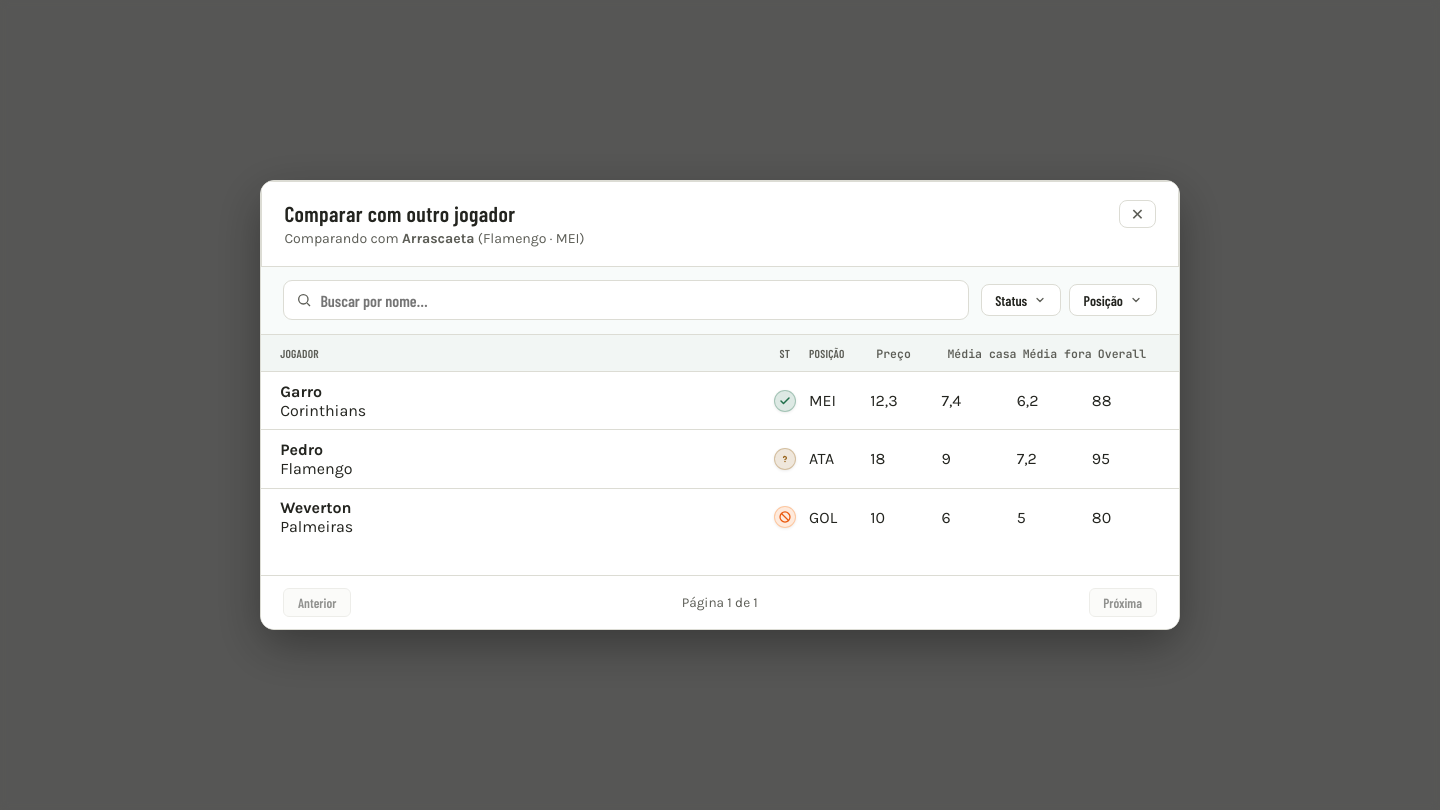
Test: ModalCompararJogador › filtra atletas por posição selecionada e desmarca ao clicar novamente
expect the text "Garro" is shown: met, box [280,382,322,401]
Click the button "Posição": [1113, 300] box [1069,284,1157,316]
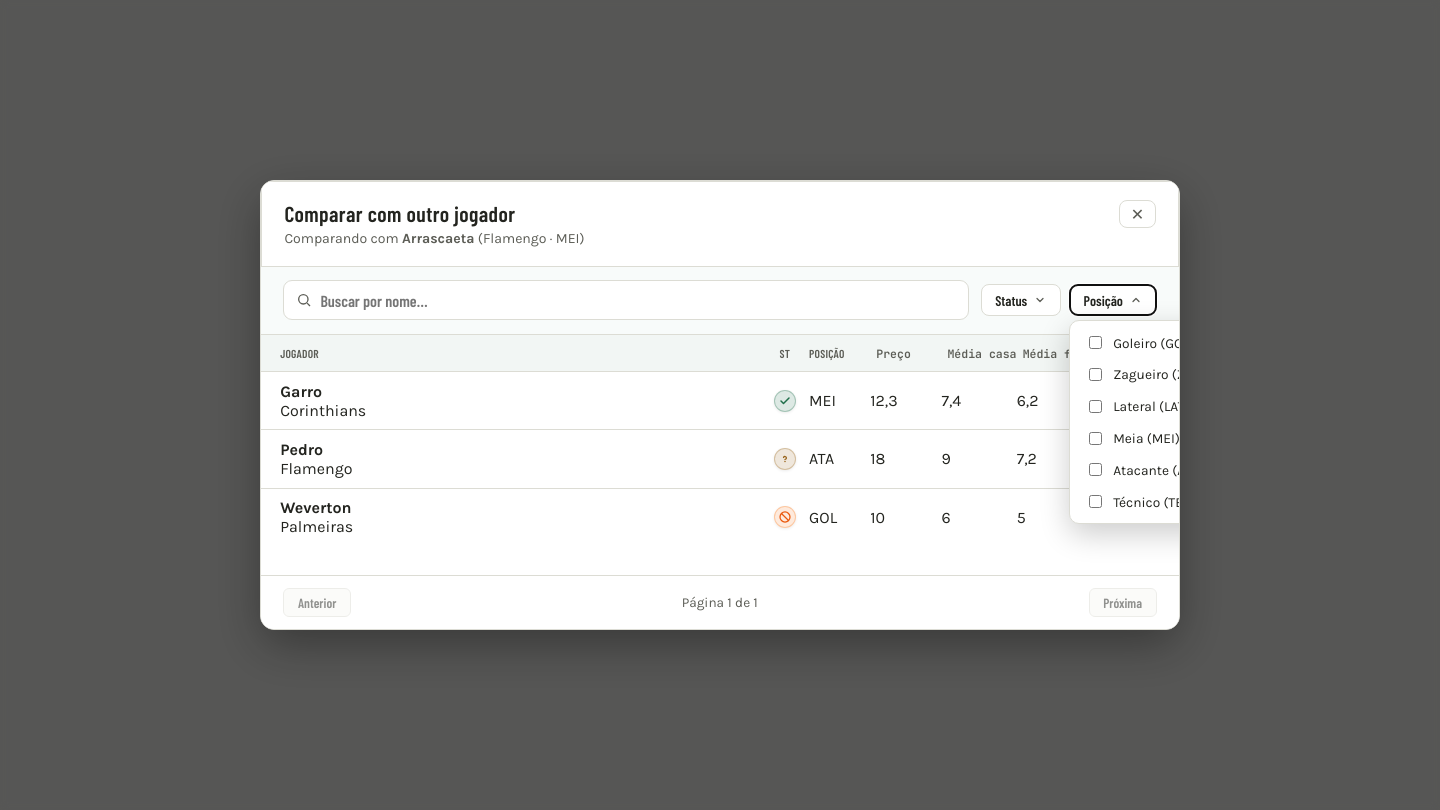
Click the option "Goleiro (GOL)": [1142, 343] box [1089,335,1194,351]
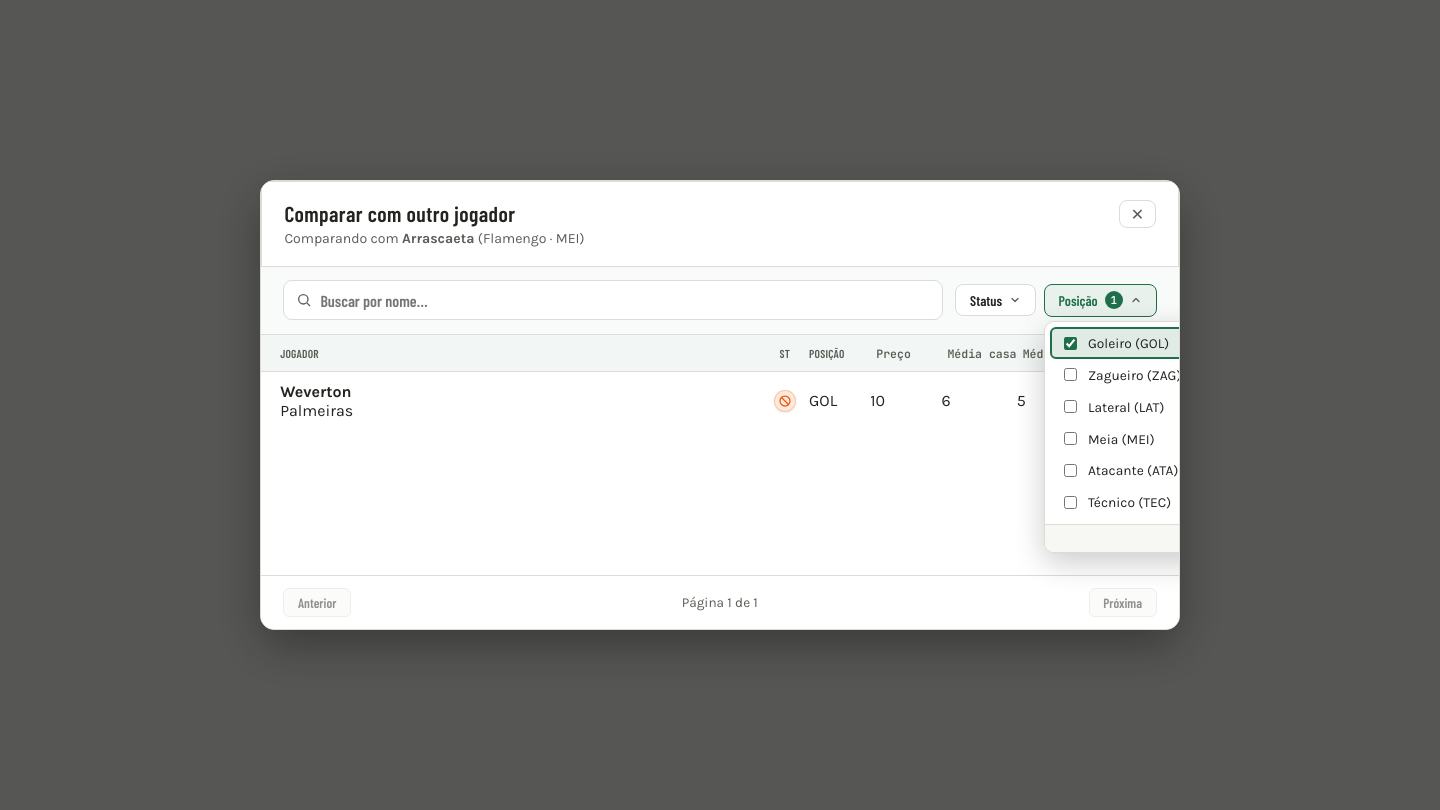
expect the text "Weverton" is shown: met, box [280,382,352,401]
expect the button "Garro" is gone: met
expect the button "Pedro" is gone: met
Desmarca a posição
Click the option "Goleiro (GOL)": [1139, 343] box [1050,327,1227,359]
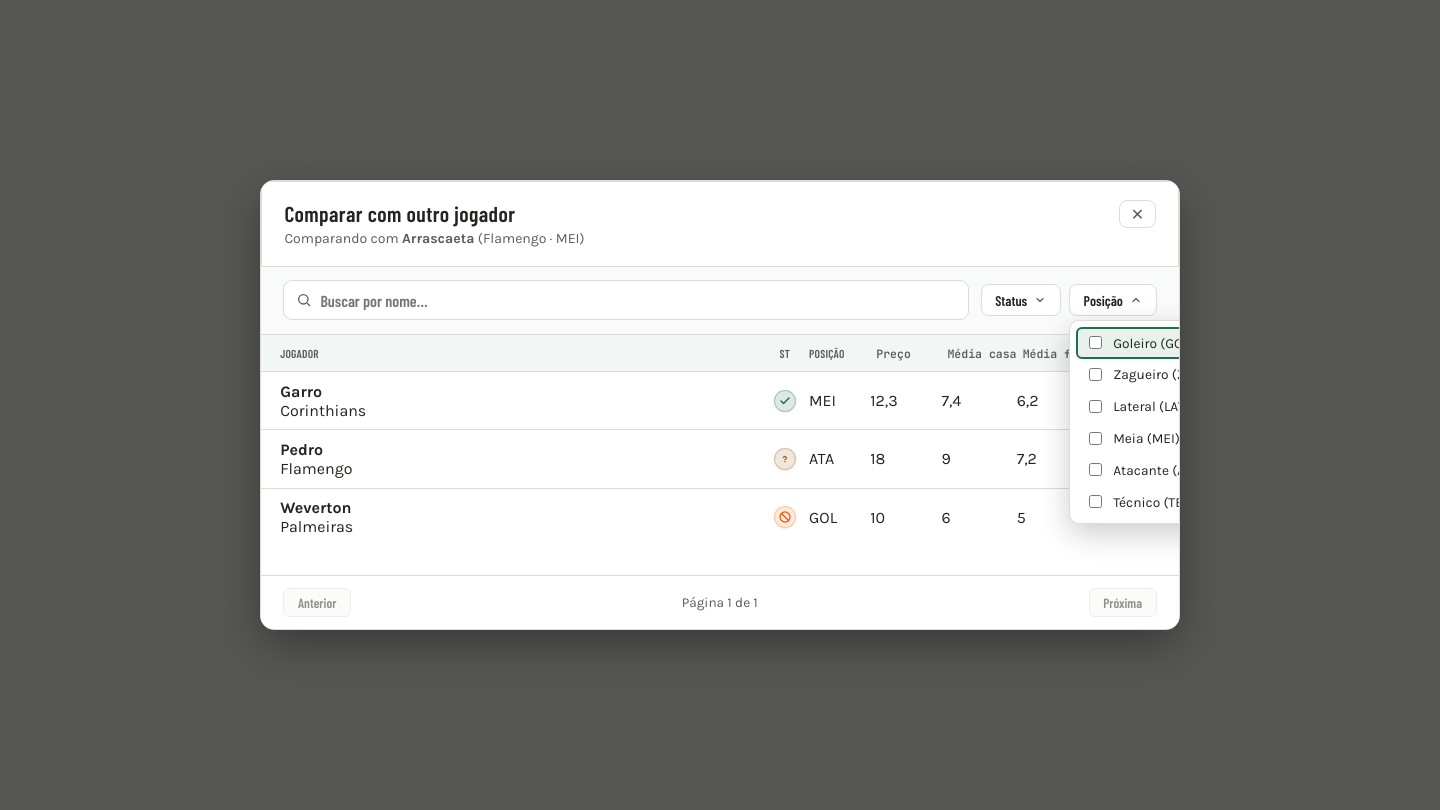
expect the text "Garro" is shown: met, box [280,382,322,401]
expect the text "Pedro" is shown: met, box [280,440,323,459]
